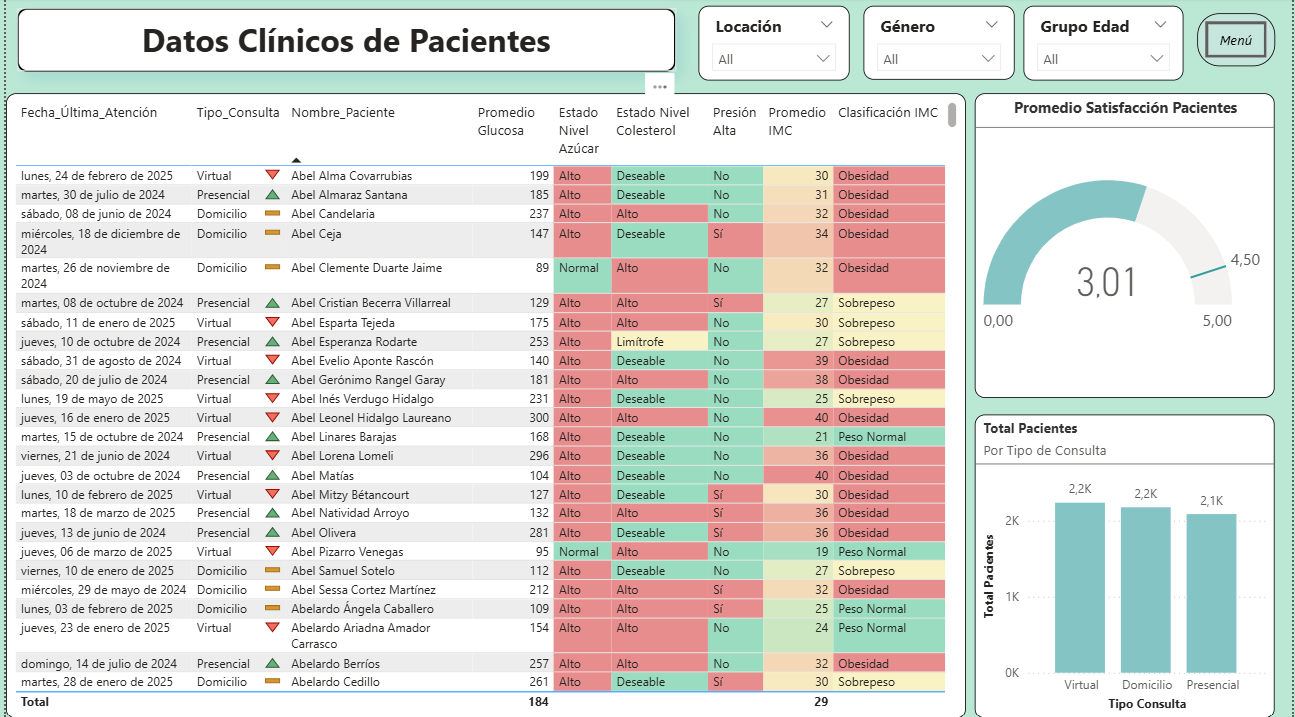

Layout of this report page (visuals, bound fields, positions):
{"tool":"powerbi","page":{"name":"Datos Clínicos de Pacientes","canvas":[1280,720],"ordinal":1},"visuals":[{"type":"tableEx","fields":{"Values":["Base_Datos_Pacientes_Crónicos.Fecha_Última_Atención","Visitas_Pacientes_Crónicos.Tipo_Consulta","Base_Datos_Pacientes_Crónicos.Nombre_Paciente","Medidas Pacientes.Promedio Glucosa","Base_Datos_Pacientes_Crónicos.Estado Nivel Azúcar","Base_Datos_Pacientes_Crónicos.Estado Nivel Colesterol","Base_Datos_Pacientes_Crónicos.Presión Alta","Medidas Pacientes.Promedio IMC","Base_Datos_Pacientes_Crónicos.Clasificación IMC"]},"box":[0,95.8,955.4,623.2],"z":0},{"type":"clusteredColumnChart","title":"Total Pacientes","fields":{"Category":["Visitas_Pacientes_Crónicos.Tipo_Consulta"],"Y":["Medidas Pacientes.Total Pacientes"]},"box":[964.1,415.5,298.6,303],"z":1000},{"type":"textbox","box":[11.2,11.2,655.6,63.4],"z":2000},{"type":"actionButton","box":[1185.4,16.2,77.4,52.4],"z":3000},{"type":"slicer","fields":{"Values":["Base_Datos_Pacientes_Crónicos.Género"]},"box":[853.4,8.7,150.5,73.4],"z":4000},{"type":"slicer","fields":{"Values":["Base_Datos_Pacientes_Crónicos.Grupo Edad"]},"box":[1012.6,8.7,159.2,74.6],"z":5000},{"type":"slicer","fields":{"Values":["Base_Datos_Pacientes_Crónicos.Provincia_Clínica"]},"box":[689.2,8.7,150.5,74.6],"z":6000},{"type":"gauge","fields":{"Y":["Medidas Pacientes.Promedio Satisfacción Pacientes"]},"box":[964.1,95.8,298.6,303.5],"z":7000}]}

Visuals, with their boxes in screenshot pixels (x1, y1, x2, y2), scaled from the page's 1280x720 canvas onto the 1295x717 screenshot:
tableEx - Base_Datos_Pacientes_Crónicos.Fecha_Última_Atención x Visitas_Pacientes_Crónicos.Tipo_Consulta: x1=0 y1=95 x2=967 y2=716
"Total Pacientes" clusteredColumnChart: x1=975 y1=414 x2=1277 y2=716
textbox: x1=11 y1=11 x2=675 y2=74
actionButton: x1=1199 y1=16 x2=1278 y2=68
slicer - Base_Datos_Pacientes_Crónicos.Género: x1=863 y1=9 x2=1016 y2=82
slicer - Base_Datos_Pacientes_Crónicos.Grupo Edad: x1=1024 y1=9 x2=1186 y2=83
slicer - Base_Datos_Pacientes_Crónicos.Provincia_Clínica: x1=697 y1=9 x2=850 y2=83
gauge - Medidas Pacientes.Promedio Satisfacción Pacientes: x1=975 y1=95 x2=1277 y2=398
